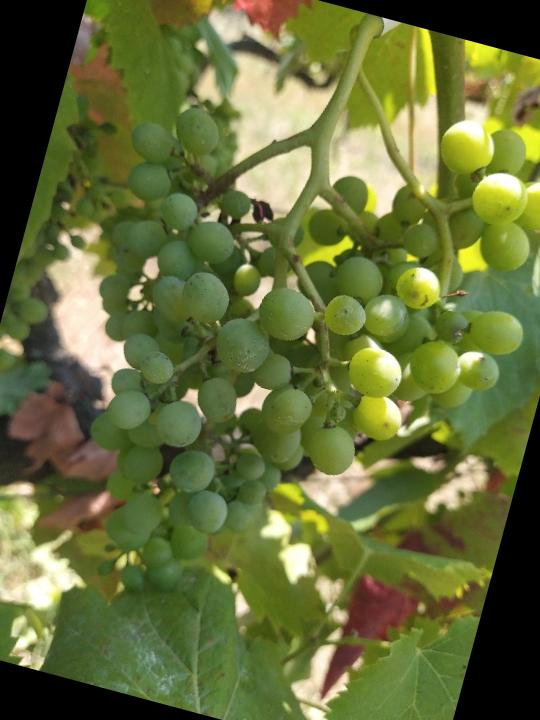grape: (15, 34, 540, 679)
